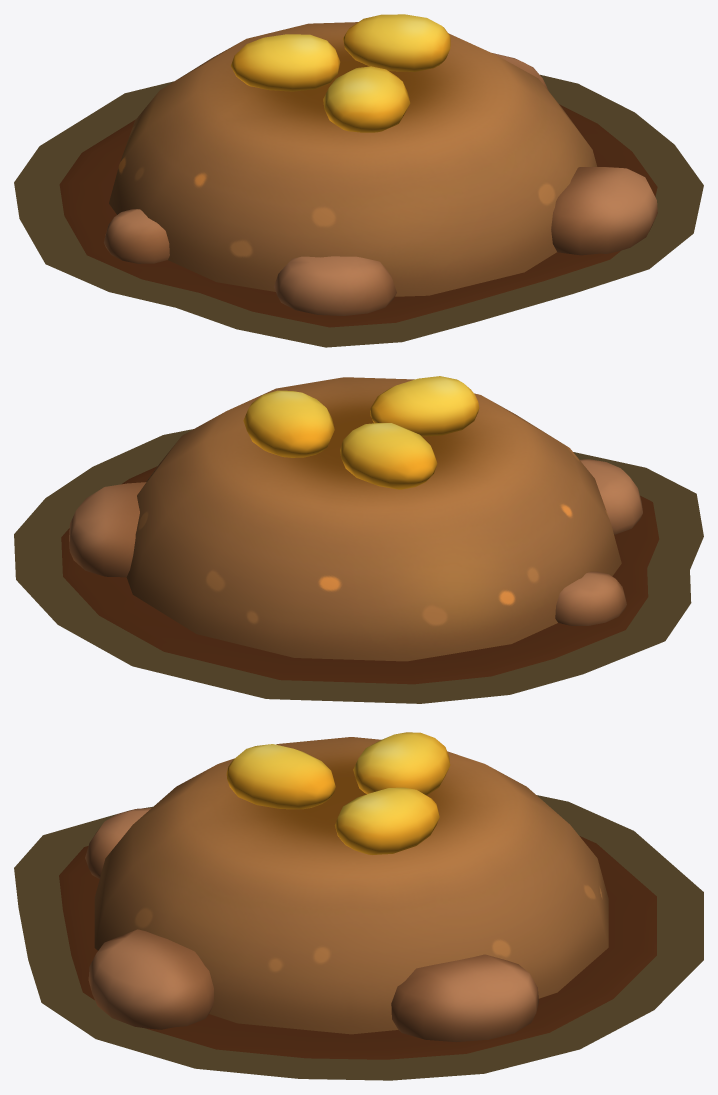
Rendered from Wheat_L01.fbx.
3 views of the same model, one above another, from view 1: azimuth 30°, elevation 25°; view 2: azimuth 150°, elevation 25°; view 3: azimuth 270°, elevation 25° (orthographic). The views are drawn at different scales.
Visible parts, largest first — view 1: Wheat01_body, Wheat01SDW; view 2: Wheat01_body, Wheat01SDW; view 3: Wheat01_body, Wheat01SDW.
Part boxes in pixels (x1=…): Wheat01_body: x1=59, y1=14, x2=657, y2=327; Wheat01SDW: x1=14, y1=74, x2=703, y2=347; Wheat01_body: x1=61, y1=376, x2=659, y2=684; Wheat01SDW: x1=14, y1=429, x2=703, y2=703; Wheat01_body: x1=59, y1=732, x2=656, y2=1059; Wheat01SDW: x1=14, y1=795, x2=703, y2=1080.
Size of the model in its own units: 111 by 26.91 by 104.
Materials: 2 (1 with a texture image).
